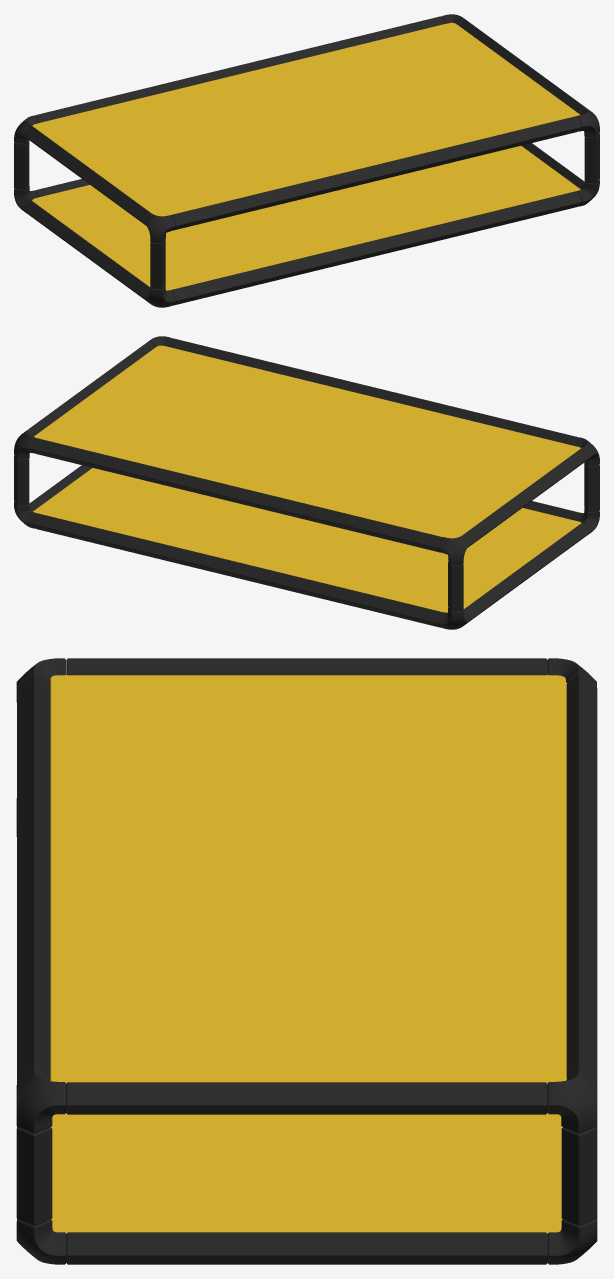
3 views of the same model, one above another, from view 1: azimuth 30°, elevation 25°; view 2: azimuth 150°, elevation 25°; view 3: azimuth 270°, elevation 25° (orthographic). The views are drawn at different scales.
Parts seen in each view (by area): view 1: 729x374x79; view 2: 729x374x79; view 3: 729x374x79.
Part boxes in pixels (left/top/right/bottom): 729x374x79: left=14, top=14, right=599, bottom=307; 729x374x79: left=14, top=336, right=599, bottom=629; 729x374x79: left=16, top=658, right=597, bottom=1264.
Bounding box in the file's own units: 0.8067 × 0.1566 × 0.4513.
